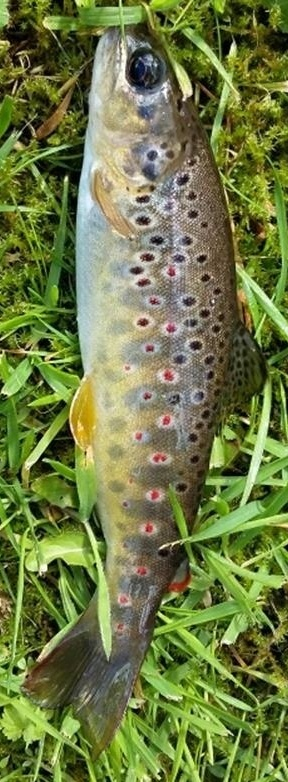Salmo trutta subsp. fario: (20, 20, 268, 762)
